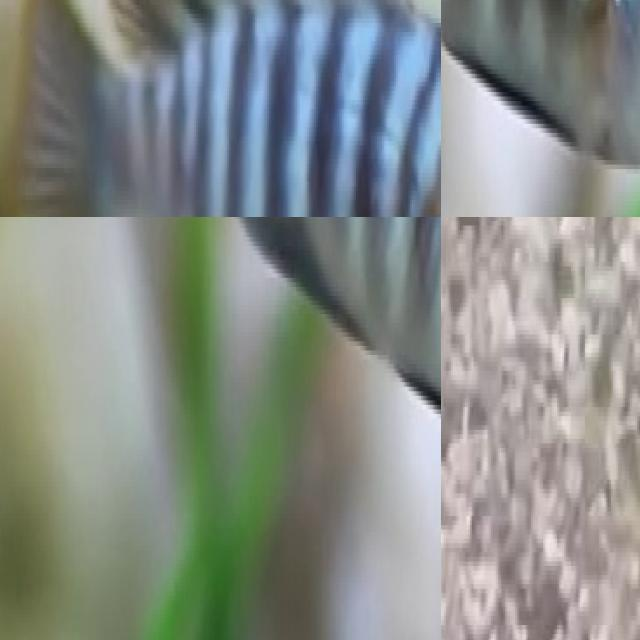fish: (0, 0, 441, 217), (116, 217, 441, 486), (441, 0, 640, 178)
